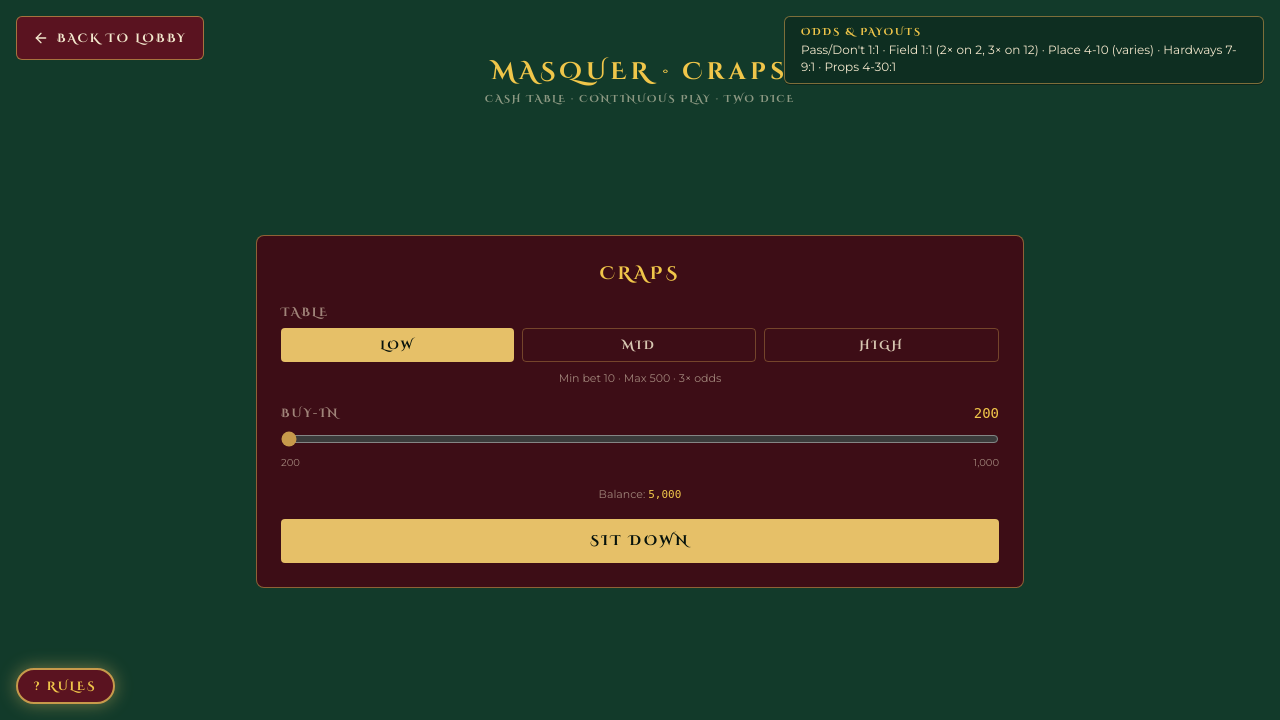
CrapsPage › SIT DOWN debits wallet and shows the table with ROLL and LEAVE TABLE buttons
The image size is (1280, 720).
Click the button "SIT DOWN" at (640, 541), box [281,519,999,563]
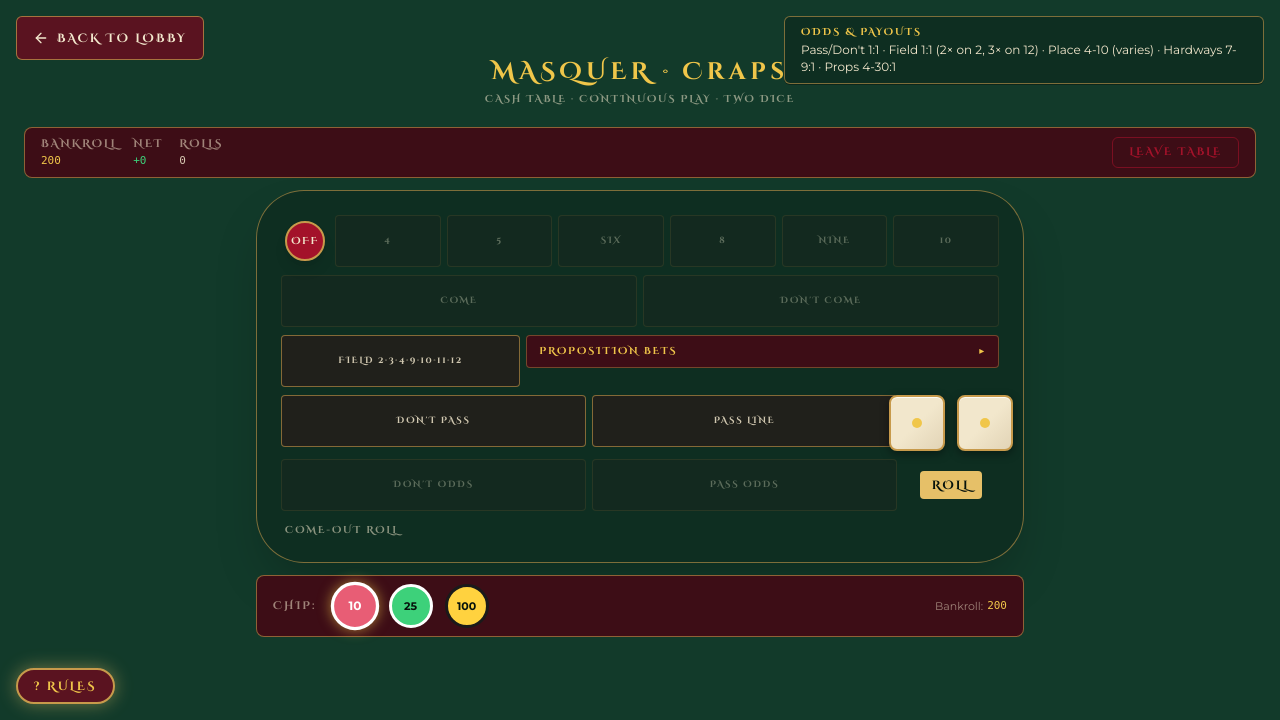
Now the button "LEAVE TABLE" is shown, box [1112,137,1239,168]
Now the button "ROLL" is shown, box [920,471,982,499]
